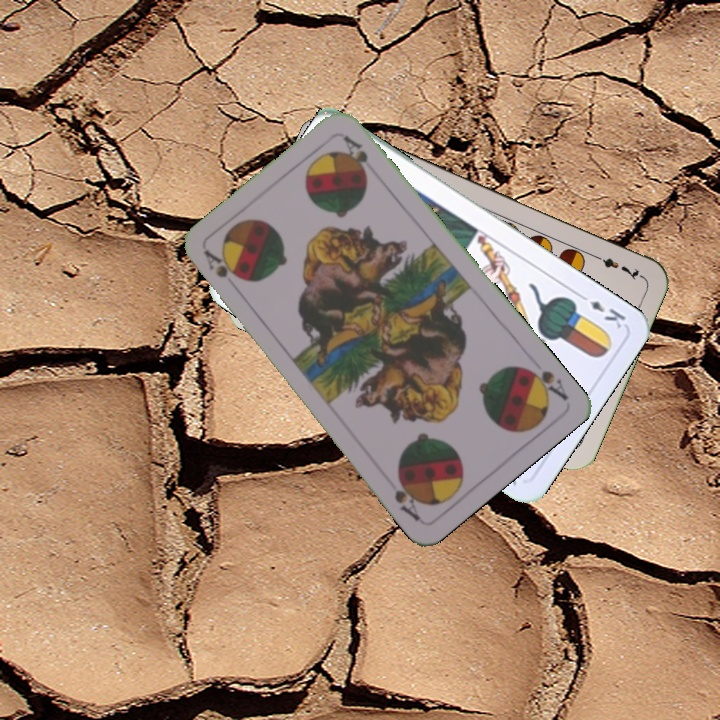E7: (589, 250, 645, 283)
EK: (574, 289, 628, 331)
SA: (519, 362, 571, 403), (200, 246, 231, 281)
